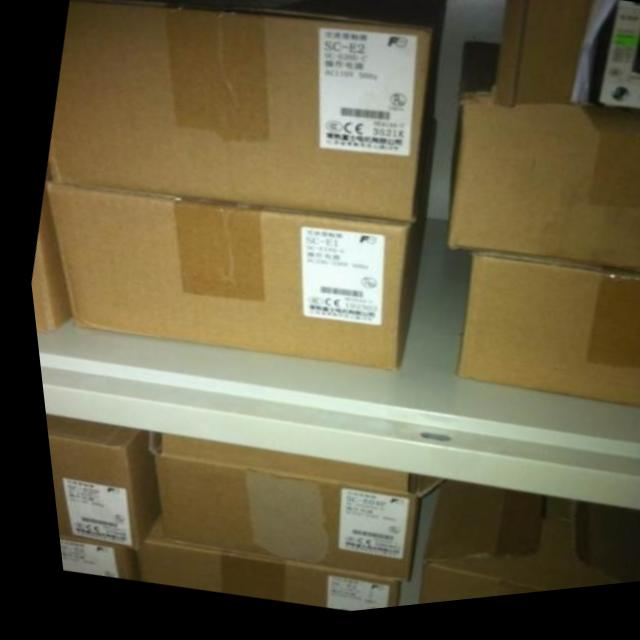box: (43, 129, 433, 377), (43, 0, 445, 229), (442, 49, 640, 285), (138, 433, 432, 590), (445, 260, 640, 421), (403, 488, 636, 612), (120, 514, 385, 617), (36, 413, 146, 551), (489, 0, 591, 117), (25, 180, 64, 332), (47, 536, 124, 582)
